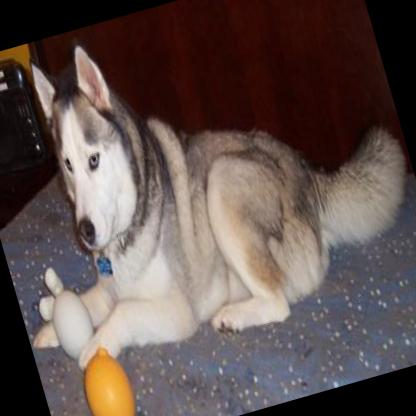Siberian_husky: (0, 0, 416, 391)
